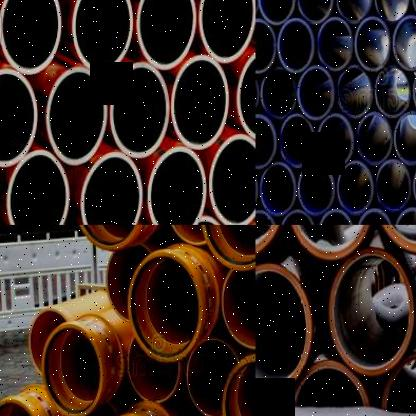pipe: (329, 249, 414, 375), (129, 251, 203, 362), (256, 264, 312, 395), (46, 66, 107, 166), (110, 63, 169, 158), (42, 323, 102, 416), (171, 56, 229, 150), (6, 150, 70, 225), (147, 147, 206, 225), (80, 152, 143, 225), (0, 0, 62, 74), (73, 0, 133, 73), (208, 134, 256, 225), (136, 0, 197, 70), (187, 339, 239, 416), (0, 70, 38, 167), (198, 0, 255, 62), (106, 245, 151, 322), (128, 336, 179, 402), (286, 225, 374, 261), (220, 262, 256, 348), (201, 225, 256, 270), (29, 309, 66, 375), (297, 66, 334, 122), (336, 64, 374, 118), (297, 162, 335, 216), (222, 356, 256, 416), (382, 352, 416, 412), (355, 16, 391, 72), (279, 113, 315, 169), (316, 115, 354, 168), (278, 18, 314, 73), (374, 66, 412, 118), (317, 17, 353, 71), (260, 66, 296, 120), (357, 112, 393, 166), (375, 160, 411, 214), (260, 162, 296, 216), (337, 162, 374, 214), (236, 48, 256, 142), (74, 225, 144, 250), (391, 13, 416, 70), (393, 112, 416, 167), (256, 114, 276, 168), (256, 19, 276, 72), (166, 225, 214, 245), (257, 0, 295, 25), (296, 0, 334, 23), (374, 0, 410, 23), (336, 0, 372, 23), (0, 399, 42, 416), (356, 208, 393, 225), (74, 402, 118, 416), (317, 209, 355, 225), (278, 209, 316, 225), (394, 207, 416, 225), (412, 64, 416, 118), (413, 160, 416, 214), (412, 0, 416, 23)
